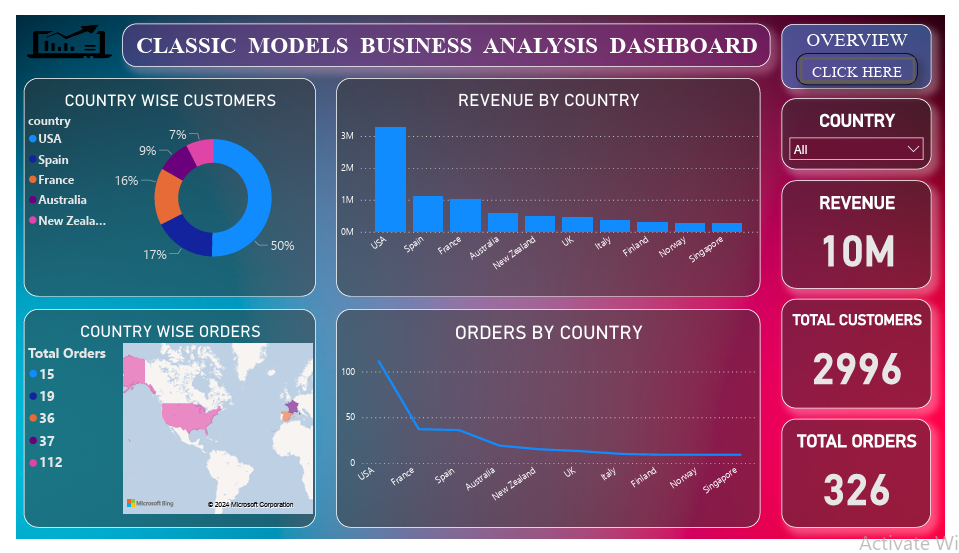

The dashboard page shown, as its layout file describes it:
{"tool":"powerbi","page":{"name":"Page 1","canvas":[1280,720],"ordinal":0},"visuals":[{"type":"textbox","box":[146,11.3,894.3,59.5],"z":0},{"type":"card","title":"REVENUE","fields":{"Values":["Sum(classicmodels business_table.Revenue)"]},"box":[1054.9,226.8,206.6,149.5],"z":1000},{"type":"card","title":"TOTAL CUSTOMERS","fields":{"Values":["Sum(classicmodels business_table.Total_Customer)"]},"box":[1054.9,389.7,206.6,151.2],"z":2000},{"type":"card","title":"TOTAL ORDERS","fields":{"Values":["Sum(classicmodels business_table.Total_Orders)"]},"box":[1055.1,554.6,206.3,150.5],"z":3000},{"type":"slicer","title":"COUNTRY","fields":{"Values":["classicmodels business_table.country"]},"box":[1054.9,114.2,206.6,97.4],"z":4000},{"type":"filledMap","title":"COUNTRY WISE ORDERS","fields":{"Category":["classicmodels business_table.country"],"Series":["classicmodels business_table.Total_Orders"]},"box":[10.1,404.1,402.4,301],"z":5000},{"type":"donutChart","title":"COUNTRY WISE CUSTOMERS","fields":{"Category":["classicmodels business_table.country"],"Y":["Sum(classicmodels business_table.Total_Customer)"]},"box":[10.1,86.2,402.4,301],"z":6000},{"type":"clusteredColumnChart","title":"REVENUE BY COUNTRY","fields":{"Category":["classicmodels business_table.country"],"Y":["Sum(classicmodels business_table.Revenue)"]},"box":[441.3,86.2,585,301],"z":7000},{"type":"lineChart","title":"ORDERS BY COUNTRY","fields":{"Category":["classicmodels business_table.country"],"Y":["Sum(classicmodels business_table.Total_Orders)"]},"box":[441,404,585,301],"z":8000},{"type":"textbox","box":[1054.9,11.8,206.6,89],"z":9000},{"type":"actionButton","box":[1075.1,52.1,168,43.7],"z":10000},{"type":"image","box":[9.9,1.4,126.1,69.4],"z":11000}]}

Visuals, with their boxes in screenshot pixels (x1, y1, x2, y2), scaled from the page's 1280x720 canvas onto the 959x553 screenshot:
textbox: 109, 9, 779, 54
"REVENUE" card: 790, 174, 945, 289
"TOTAL CUSTOMERS" card: 790, 299, 945, 415
"TOTAL ORDERS" card: 791, 426, 945, 542
"COUNTRY" slicer: 790, 88, 945, 163
"COUNTRY WISE ORDERS" filledMap: 8, 310, 309, 542
"COUNTRY WISE CUSTOMERS" donutChart: 8, 66, 309, 297
"REVENUE BY COUNTRY" clusteredColumnChart: 331, 66, 769, 297
"ORDERS BY COUNTRY" lineChart: 330, 310, 769, 541
textbox: 790, 9, 945, 77
actionButton: 805, 40, 931, 74
image: 7, 1, 102, 54
